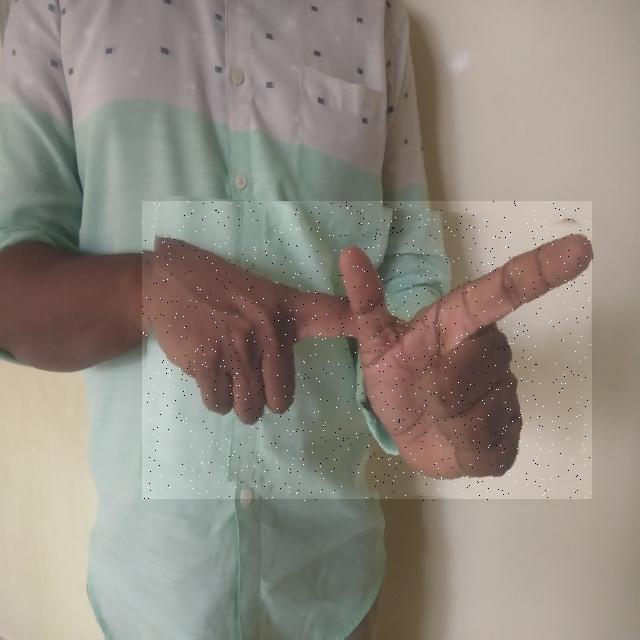Y: (142, 202, 592, 502)
